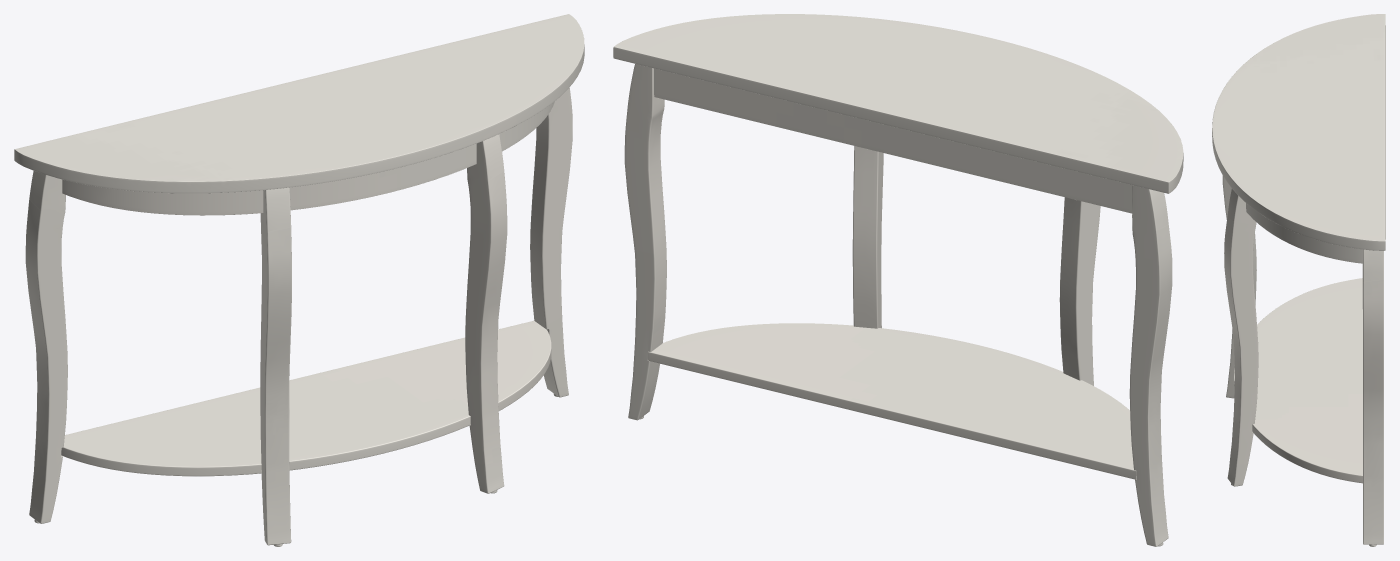
Rendered from abo-B07DBHFDQW.glb.
3 renders of one model, left to right at view 1: azimuth 30°, elevation 25°; view 2: azimuth 150°, elevation 25°; view 3: azimuth 270°, elevation 25°, orthographic. The views are drawn at different scales.
Size of the model in its own units: 1.22 by 0.78 by 0.394.
1 material, 1 textured.
